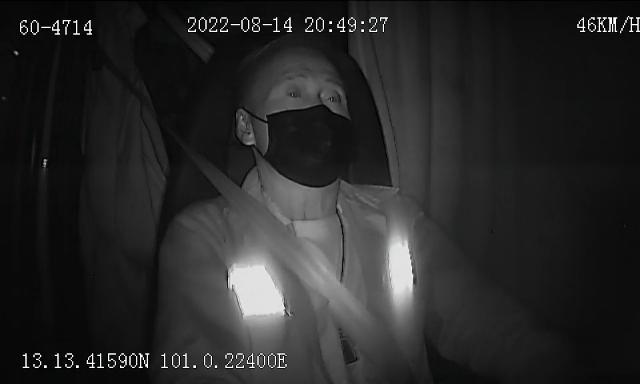SafeDriving: (320, 86, 344, 107)
Seatbelt: (192, 149, 414, 384)
